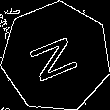N_E: (25, 29, 86, 85)
